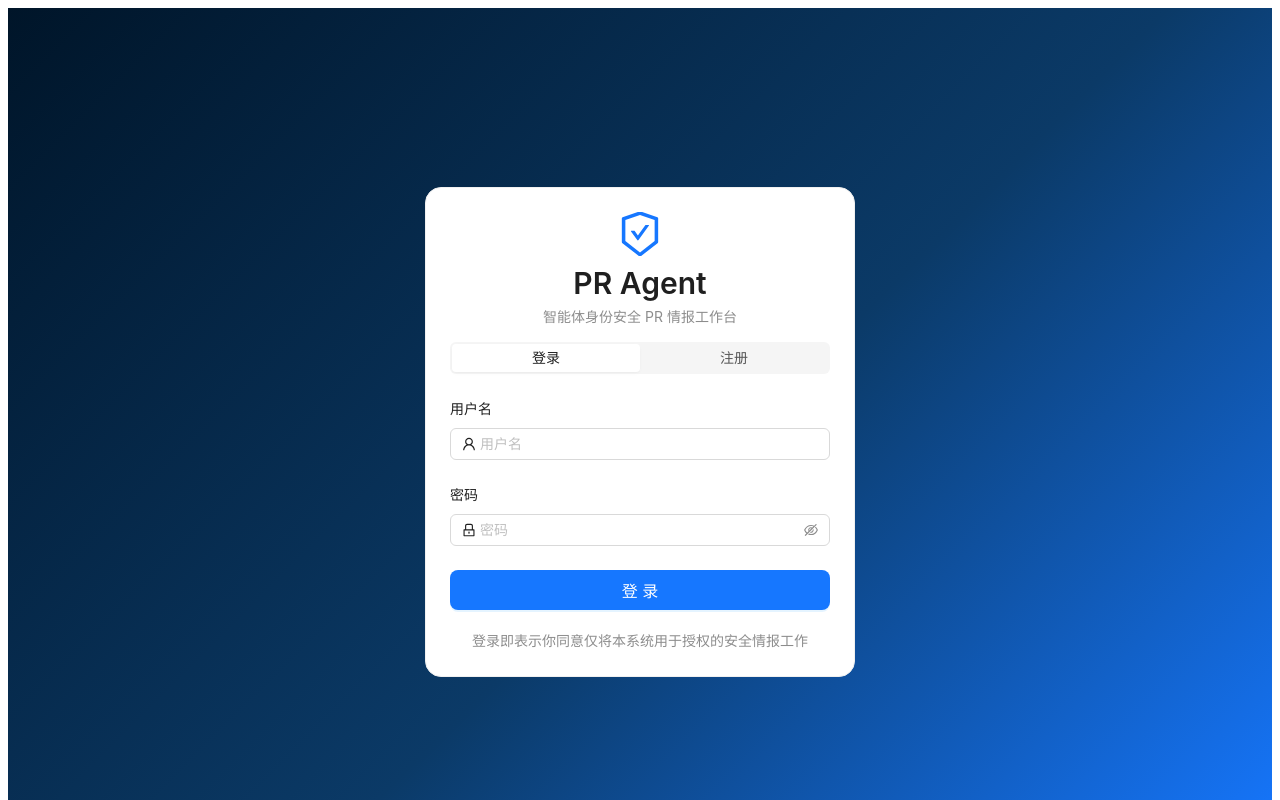
Test: LoginPage › validates username and password before login
Type "a" into the field labelled "用户名" at point(649, 444), box x1=480 y1=433 x2=818 y2=455
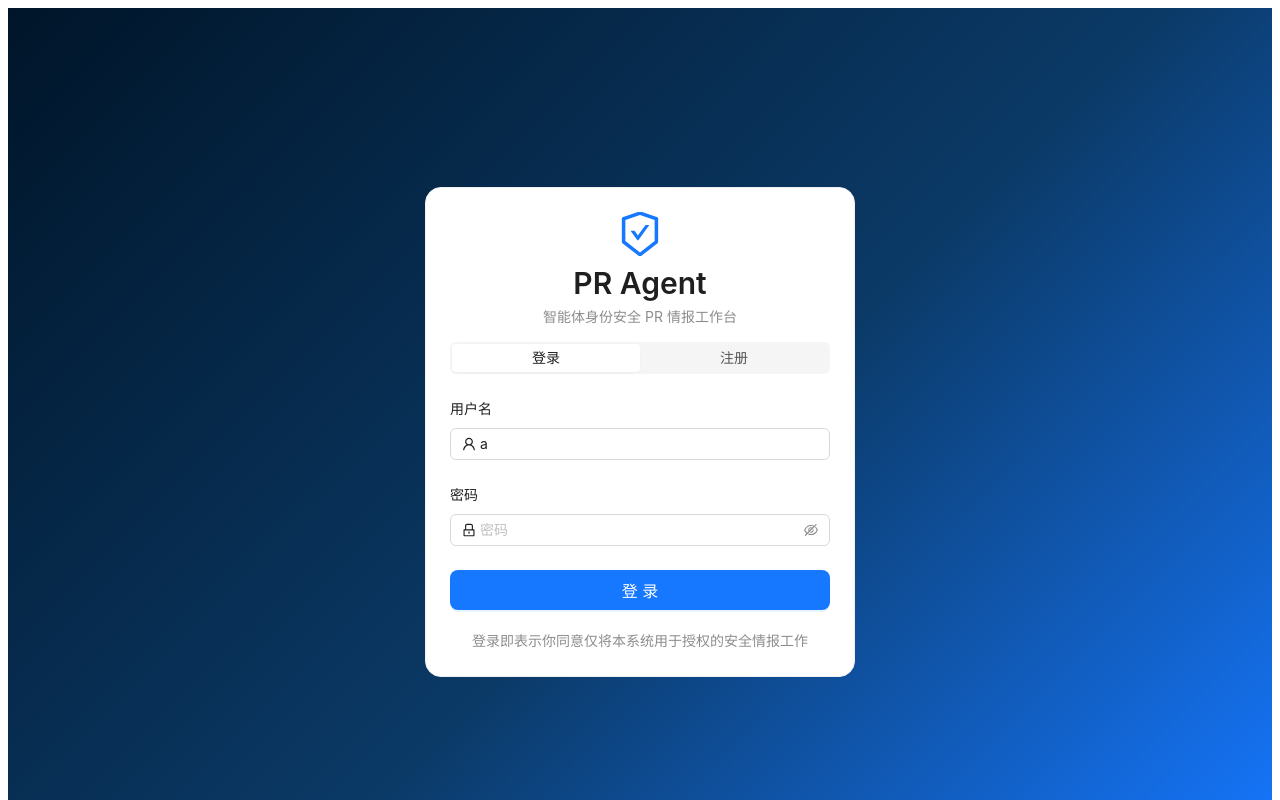
Type "123" into the password field labelled "密码" at point(640, 530), box x1=480 y1=519 x2=800 y2=541
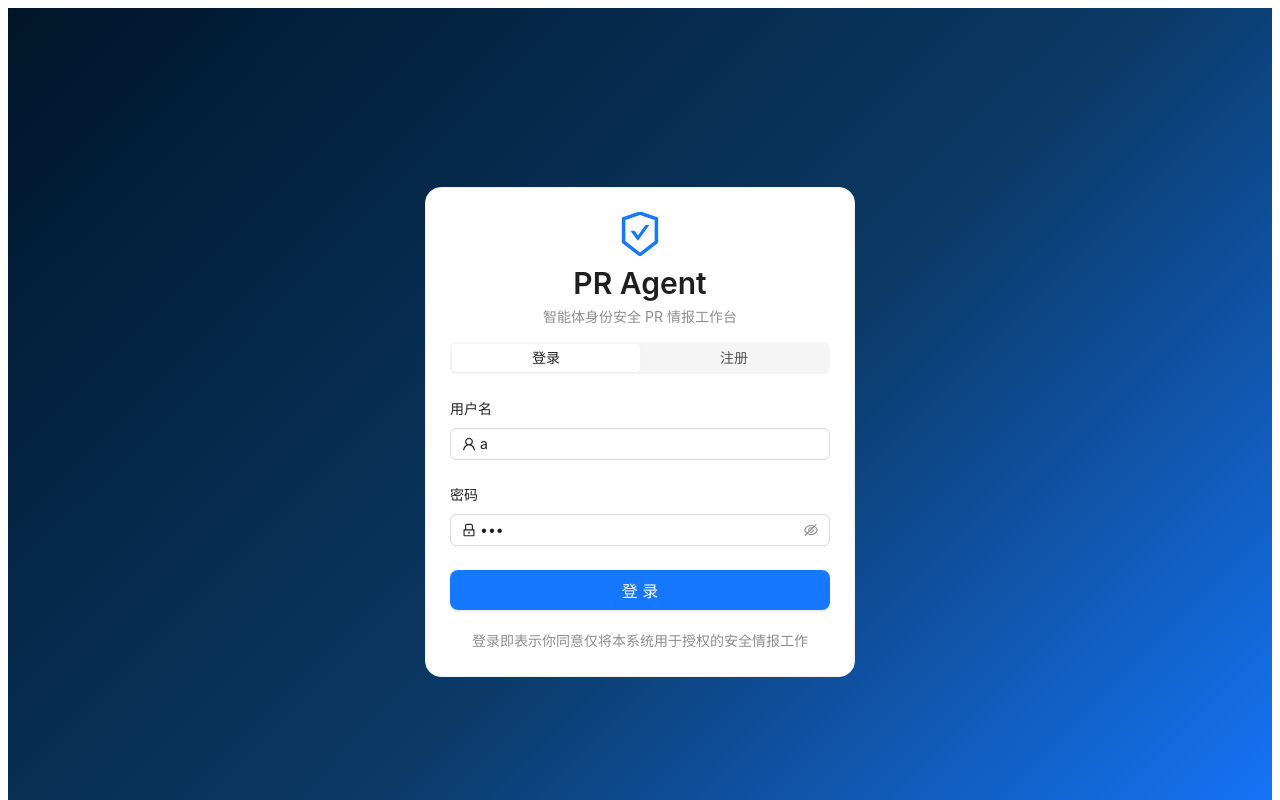
Click the submit button at point(640, 590), box x1=450 y1=570 x2=830 y2=610
(page scrolled)
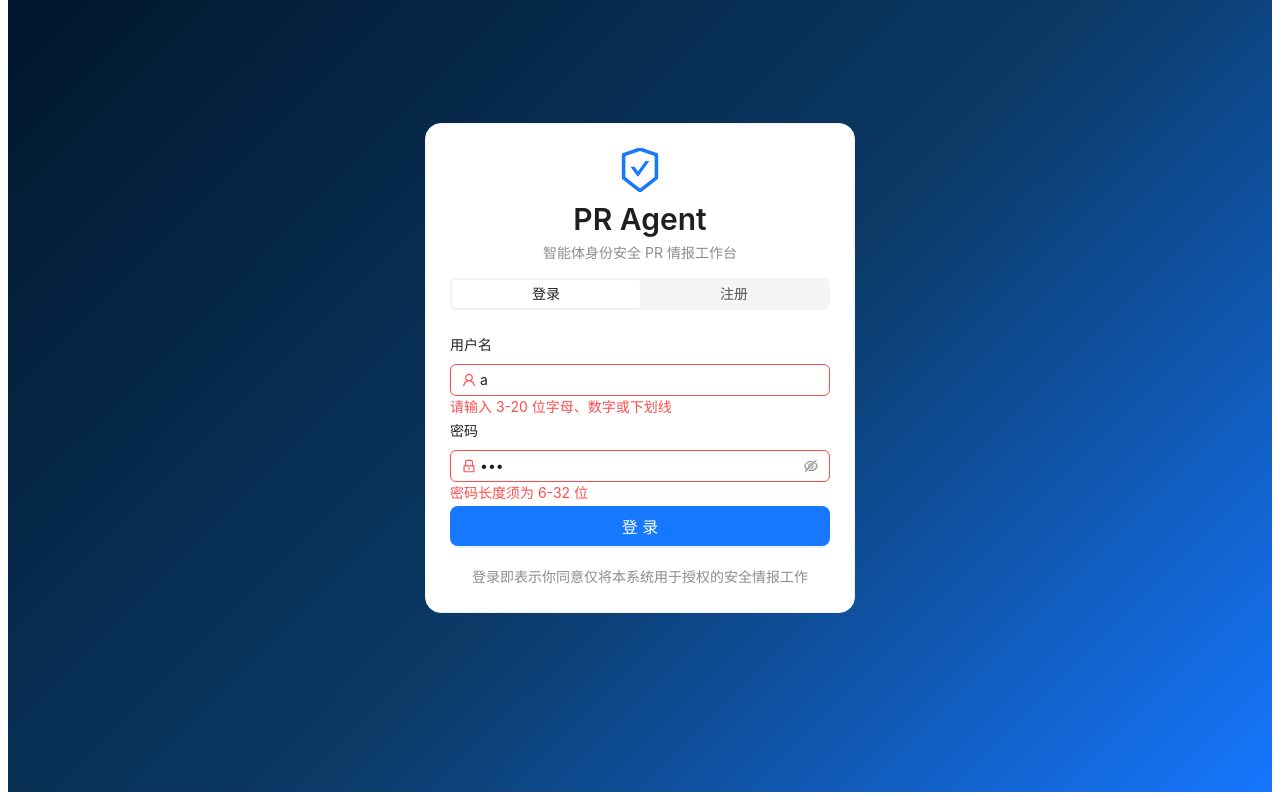
Expected: the text "请输入 3-20 位字母、数字或下划线" is shown, x1=450 y1=398 x2=672 y2=415
Expected: the text "密码长度须为 6-32 位" is shown, x1=450 y1=484 x2=588 y2=501
